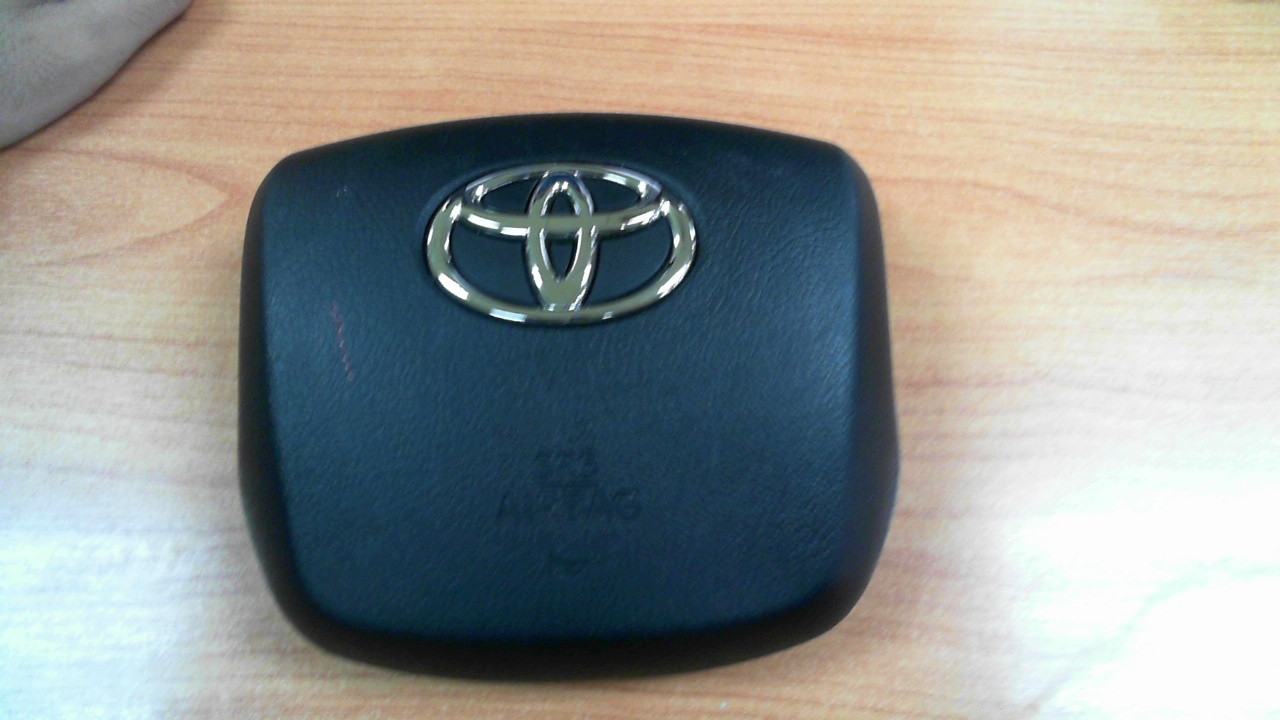Airbag: (235, 111, 902, 685)
Toyota: (426, 163, 697, 323)
